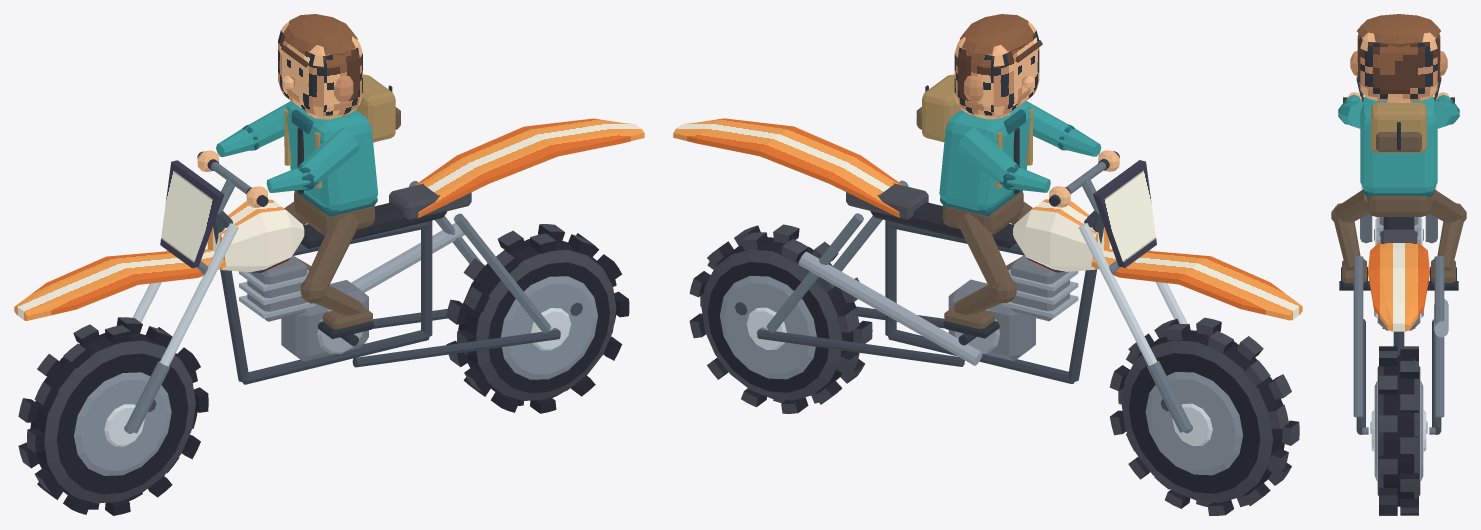
3 renders of one model, left to right at view 1: azimuth 30°, elevation 25°; view 2: azimuth 150°, elevation 25°; view 3: azimuth 270°, elevation 25°, orthographic. The views are drawn at different scales.
Visible parts, largest first — view 1: Body_static, RiderExplorer:Explorer_static_seated, Wheel_F_tire_hub, Wheel_R_tire_hub; view 2: Body_static, RiderExplorer:Explorer_static_seated, Wheel_F_tire_hub, Wheel_R_tire_hub; view 3: RiderExplorer:Explorer_static_seated, Body_static, Wheel_R_tire_hub.
Boxes of the visible parts, box(x1,y1,x2,y2) form: Body_static: box(14, 118, 644, 433); RiderExplorer:Explorer_static_seated: box(197, 14, 400, 338); Wheel_F_tire_hub: box(18, 317, 208, 515); Wheel_R_tire_hub: box(446, 224, 629, 413); Body_static: box(673, 118, 1302, 433); RiderExplorer:Explorer_static_seated: box(916, 14, 1119, 338); Wheel_F_tire_hub: box(1109, 317, 1299, 515); Wheel_R_tire_hub: box(689, 224, 872, 413); RiderExplorer:Explorer_static_seated: box(1331, 14, 1466, 289); Body_static: box(1339, 76, 1458, 434); Wheel_R_tire_hub: box(1370, 346, 1427, 515).
Size of the model in its own units: 58.26 by 39.04 by 12.17.
Materials: 2 (2 with a texture image).
